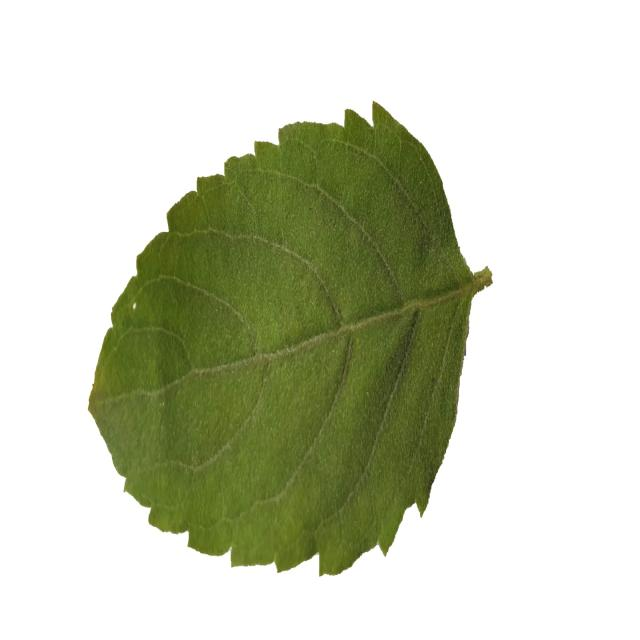tulsi: (83, 93, 492, 581)
